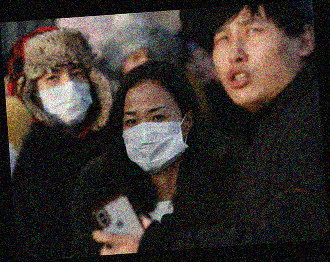with_mask: (122, 102, 188, 176), (34, 65, 93, 126)
without_mask: (213, 16, 301, 110)
